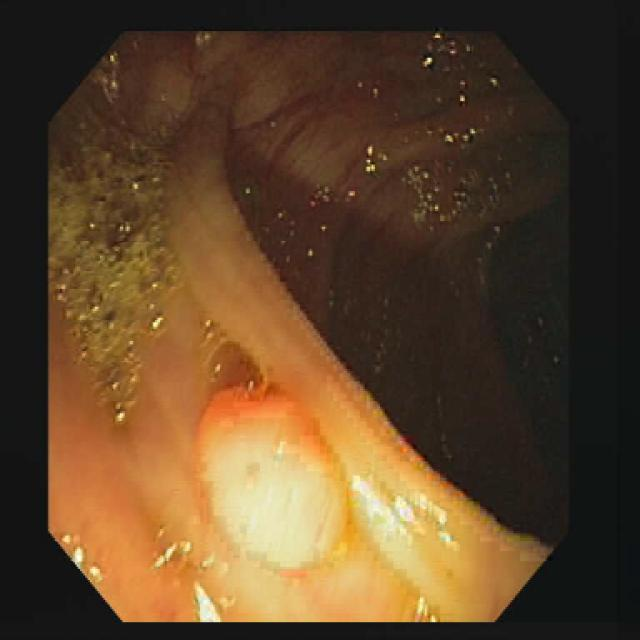tumor: (200, 384, 345, 567)
